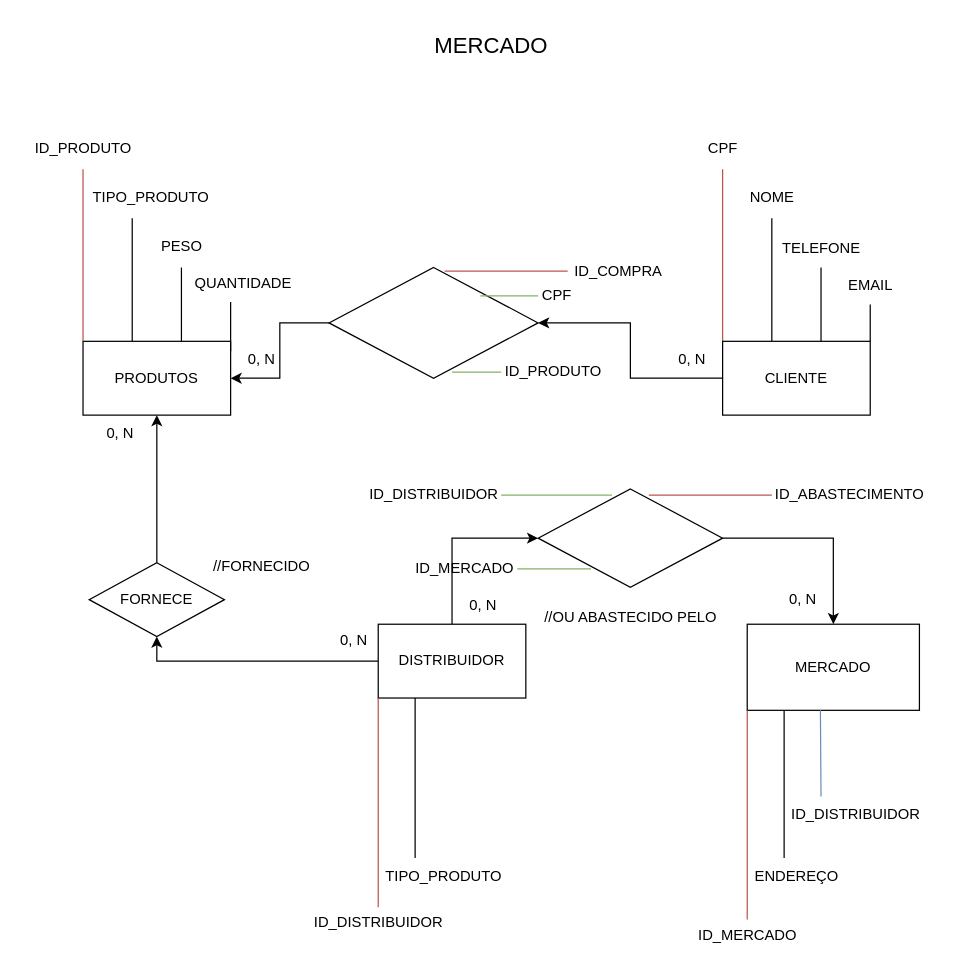
This 956x974 diagram has some shape labels left out. Here are the shapes that lost their labels. From the top down, the centre of each, then its label:
the point at 433,322: COMPRA
the point at 630,537: ABASTECIMENTO
